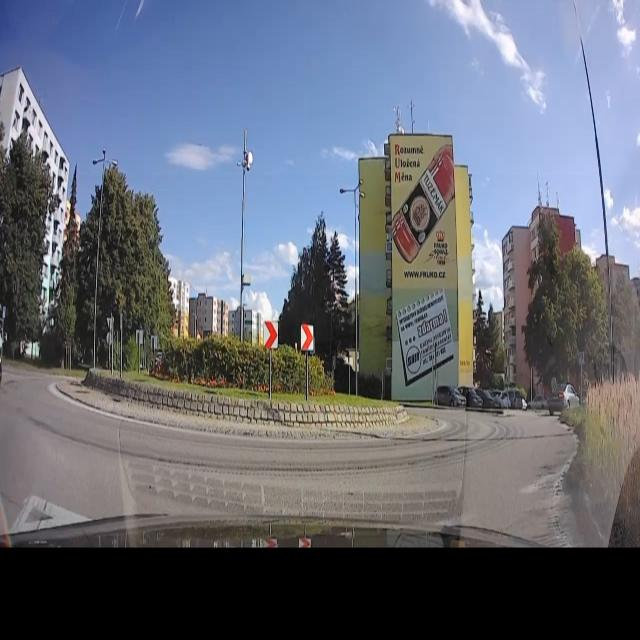Pedestrian crosswalk: (577, 350, 586, 367)
